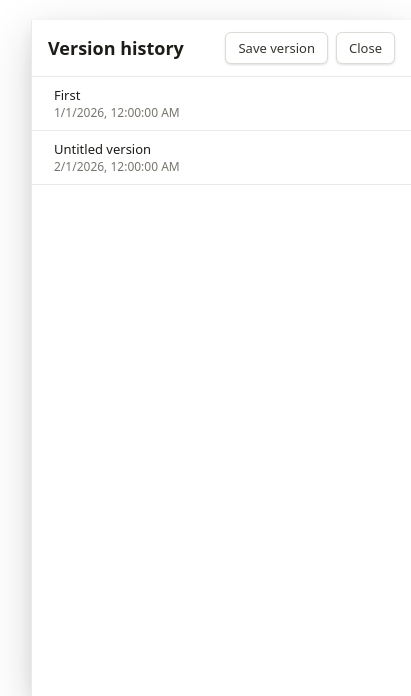
Test: VersionHistoryPanel › shows a read-only preview when a version is selected
Click the button with test id "version-item-select" showing "First 1/1/2026, 12:00:00 AM".
click(117, 112)  # box [48,85,326,122]
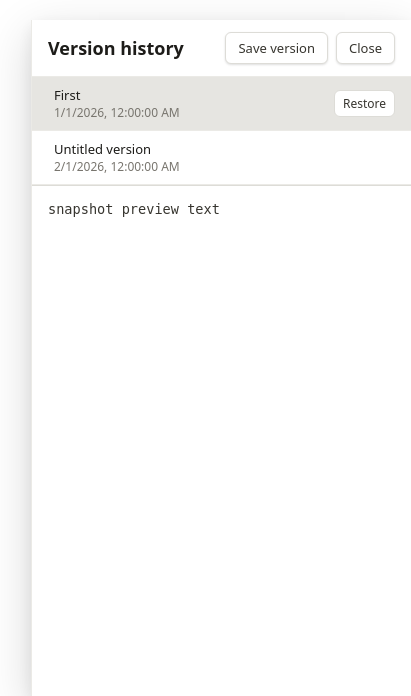
Result: the element with test id "version-preview" reads "snapshot preview text" at [48,201,220,217]
